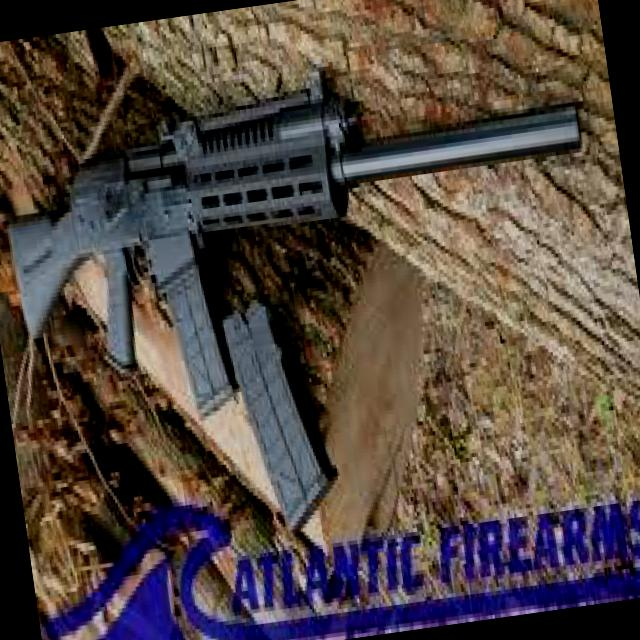long weapon: (0, 52, 627, 556)
